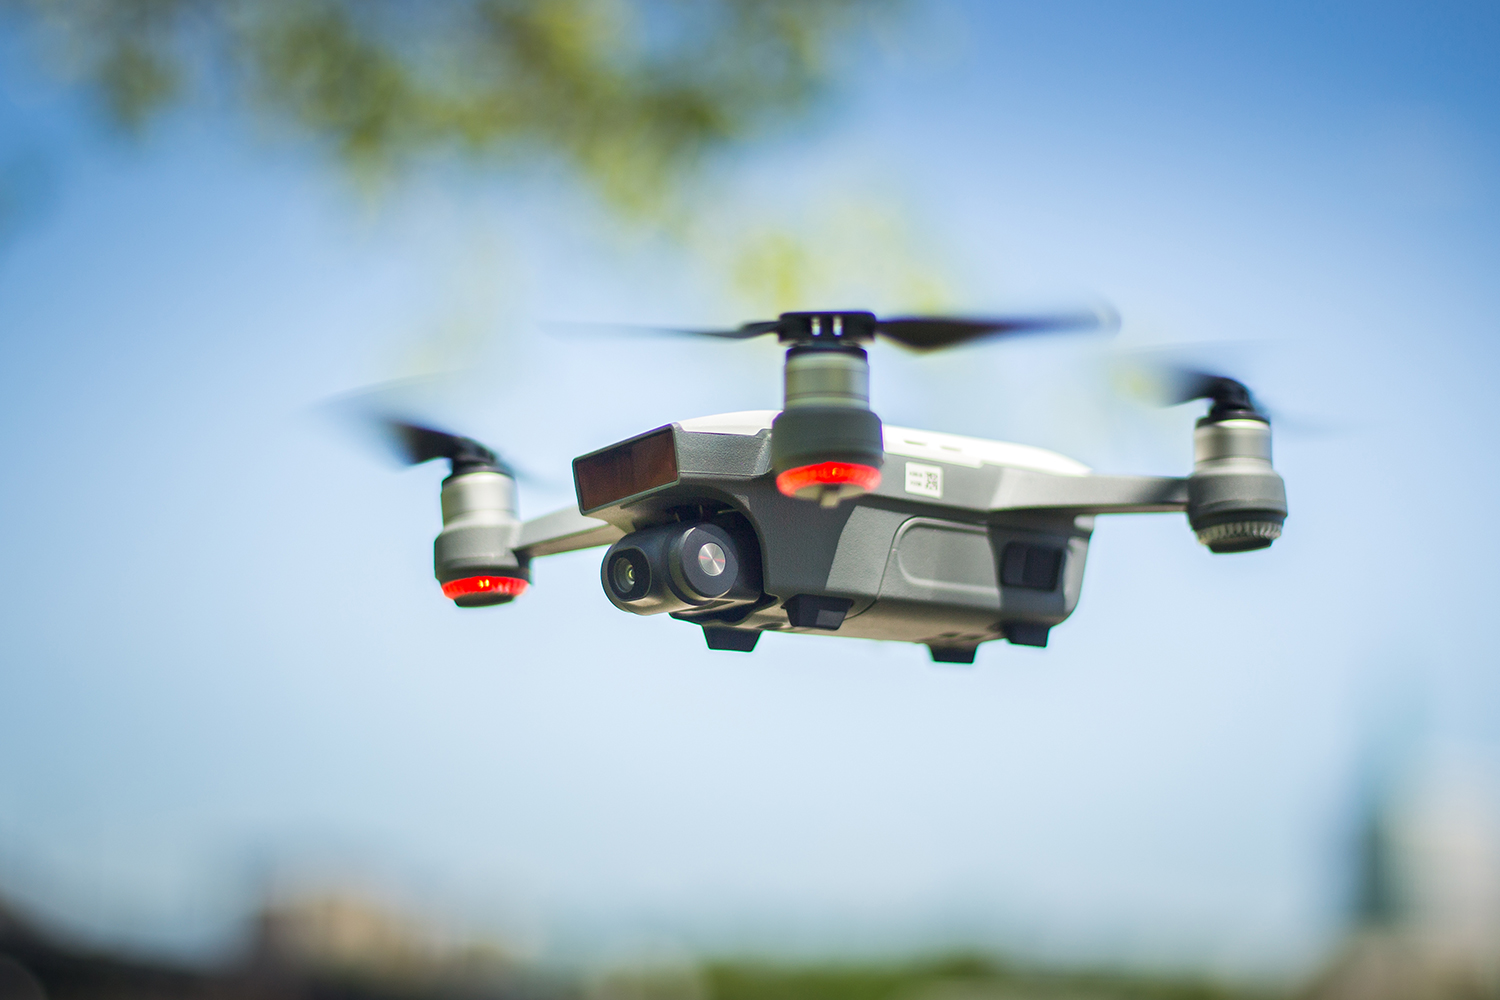drone: (306, 291, 1373, 670)
